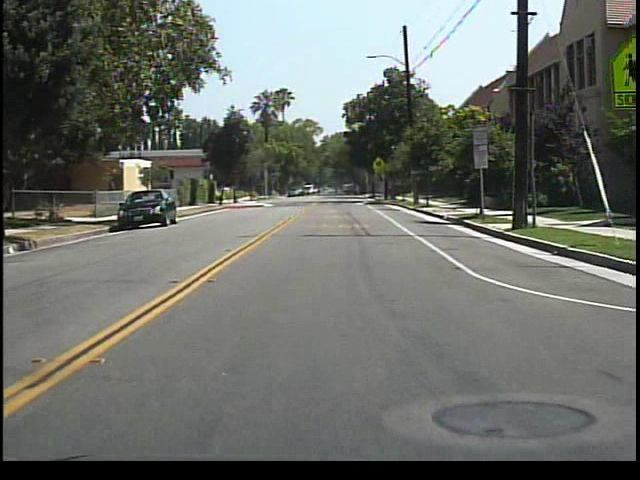person: (329, 181, 344, 199)
